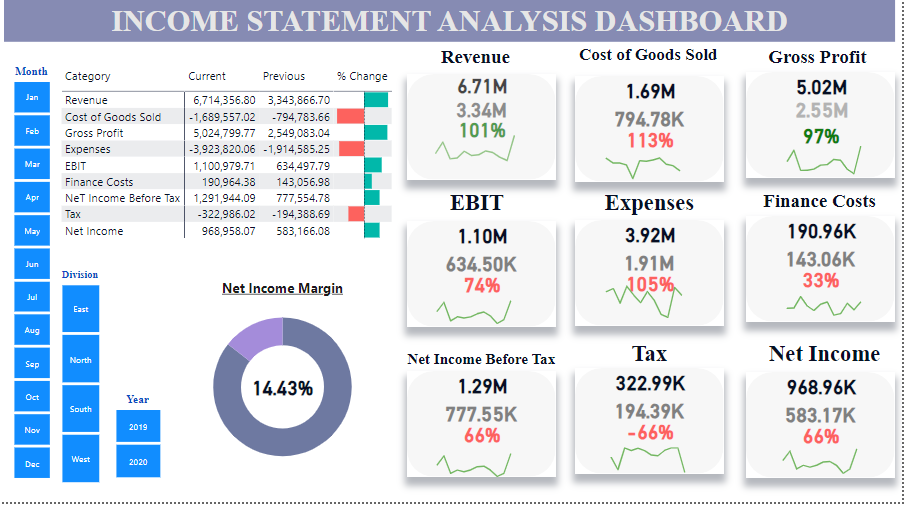

This screenshot's page, from the dashboard's own definition file:
{"tool":"powerbi","page":{"name":"Page 1","canvas":[1280,720],"ordinal":0},"visuals":[{"type":"shape","box":[1058.6,114,209.7,149.3],"z":0,"group":"g2"},{"type":"shape","box":[817,119.1,209.7,149.3],"z":0,"group":"g1"},{"type":"shape","box":[1058.6,317,209.7,149.3],"z":0,"group":"g5"},{"type":"shape","box":[817,322.1,209.7,149.3],"z":0,"group":"g7"},{"type":"shape","box":[580.4,323.7,209.7,149.3],"z":0,"group":"g4"},{"type":"shape","box":[817,531.8,209.7,149.3],"z":0,"group":"g8"},{"type":"shape","box":[580.4,535.1,209.7,149.3],"z":0,"group":"g6"},{"type":"shape","box":[1058.6,536.8,209.7,149.3],"z":0,"group":"g9"},{"type":"card","fields":{"Values":["KPIs.Gross Profit % Change"]},"box":[1082.1,176.1,164.4,53.7],"z":1000,"group":"g2"},{"type":"card","fields":{"Values":["KPIs.Cost of Goods Sold % Change"]},"box":[840.5,181.2,164.4,53.7],"z":1000,"group":"g1"},{"type":"card","fields":{"Values":["KPIs.Finance Costs % Change"]},"box":[1082.1,379.1,164.4,53.7],"z":1000,"group":"g5"},{"type":"card","fields":{"Values":["KPIs.Expenses % Change"]},"box":[840.5,384.2,164.4,53.7],"z":1000,"group":"g7"},{"type":"card","fields":{"Values":["KPIs.EBIT % Change"]},"box":[603.9,385.8,164.4,53.7],"z":1000,"group":"g4"},{"type":"donutChart","title":"Net Income Margin","fields":{"Y":["My Measures.Inv Net Margin","My Measures.Net Income Margin"]},"box":[237.2,405.2,334.6,279.5],"z":1000},{"type":"card","fields":{"Values":["KPIs.Tax % Change"]},"box":[840.5,593.9,164.4,53.7],"z":1000,"group":"g8"},{"type":"card","fields":{"Values":["KPIs.Net Income Before Tax % Change"]},"box":[603.9,597.2,164.4,53.7],"z":1000,"group":"g6"},{"type":"card","fields":{"Values":["KPIs.Net Income % Change"]},"box":[1082.1,598.9,164.4,53.7],"z":1000,"group":"g9"},{"type":"card","fields":{"Values":["KPIs.Gross Profit Previous"]},"box":[1073,129.3,186.2,73.8],"z":2000,"group":"g2"},{"type":"card","fields":{"Values":["KPIs.Cost of Goods Sold Previous"]},"box":[828.7,141,186.2,73.8],"z":2000,"group":"g1"},{"type":"card","fields":{"Values":["KPIs.Finance Costs Previous"]},"box":[1070.3,338.9,186.2,73.8],"z":2000,"group":"g5"},{"type":"card","fields":{"Values":["KPIs.Expenses Previous"]},"box":[828.7,344,186.2,73.8],"z":2000,"group":"g7"},{"type":"card","fields":{"Values":["KPIs.EBIT Previous"]},"box":[592.1,345.6,186.2,73.8],"z":2000,"group":"g4"},{"type":"card","fields":{"Values":["KPIs.Tax Previous"]},"box":[828.7,553.7,186.2,73.8],"z":2000,"group":"g8"},{"type":"card","fields":{"Values":["KPIs.Net Income Before Tax Previous"]},"box":[592.1,557,186.2,73.8],"z":2000,"group":"g6"},{"type":"card","fields":{"Values":["KPIs.Net Income Previous"]},"box":[1070.3,558.7,186.2,73.8],"z":2000,"group":"g9"},{"type":"slicer","title":"Year","fields":{"Values":["Calender.Year"]},"box":[144,566.1,111.5,125.6],"z":2000},{"type":"card","fields":{"Values":["KPIs.Gross Profit Current"]},"box":[1072,102.3,184.5,62.1],"z":3000,"group":"g2"},{"type":"card","fields":{"Values":["KPIs.Cost of Goods Sold Current"]},"box":[830.4,107.4,184.5,62.1],"z":3000,"group":"g1"},{"type":"card","fields":{"Values":["KPIs.Finance Costs Current"]},"box":[1072,305.3,184.5,62.1],"z":3000,"group":"g5"},{"type":"card","fields":{"Values":["KPIs.Expenses Current"]},"box":[830.4,310.4,184.5,62.1],"z":3000,"group":"g7"},{"type":"card","fields":{"Values":["KPIs.EBIT Current"]},"box":[593.8,312,184.5,62.1],"z":3000,"group":"g4"},{"type":"card","fields":{"Values":["My Measures.Net Income Margin"]},"box":[336,504,136.9,105.9],"z":3000},{"type":"card","fields":{"Values":["KPIs.Tax Current"]},"box":[830.4,520.1,184.5,62.1],"z":3000,"group":"g8"},{"type":"card","fields":{"Values":["KPIs.Net Income Before Tax Current"]},"box":[593.8,523.4,184.5,62.1],"z":3000,"group":"g6"},{"type":"card","fields":{"Values":["KPIs.Net Income Current"]},"box":[1072,525.1,184.5,62.1],"z":3000,"group":"g9"},{"type":"group","id":"g1","title":"Group 1","box":[817,107.4,209.7,166.1],"z":4000},{"type":"lineChart","fields":{"Category":["Calender.Month"],"Y":["My Measures.Gross Profit"]},"box":[1092.8,199.8,171.1,65.4],"z":4000,"group":"g2"},{"type":"lineChart","fields":{"Category":["Calender.Month"],"Y":["My Measures.Cost of Goods Sold"]},"box":[837.1,208.1,171.1,65.4],"z":4000,"group":"g1"},{"type":"lineChart","fields":{"Category":["Calender.Month"],"Y":["My Measures.Expenses"]},"box":[837.2,398.7,174.5,67.1],"z":4000,"group":"g7"},{"type":"lineChart","fields":{"Category":["Calender.Month"],"Y":["My Measures.Finance Costs"]},"box":[1091.8,405.6,171.1,65.4],"z":4000,"group":"g5"},{"type":"lineChart","fields":{"Category":["Calender.Month"],"Y":["My Measures.EBIT"]},"box":[598.8,411.7,171.1,65.4],"z":4000,"group":"g4"},{"type":"lineChart","fields":{"Category":["Calender.Month"],"Y":["My Measures.Net Income"]},"box":[1086.2,627,171.1,65.4],"z":4000,"group":"g9"},{"type":"lineChart","fields":{"Category":["Calender.Month"],"Y":["My Measures.Net Income before Tax"]},"box":[598.8,628.6,171.1,65.4],"z":4000,"group":"g6"},{"type":"lineChart","fields":{"Category":["Calender.Month"],"Y":["My Measures.Tax"]},"box":[843.9,630.4,171.1,65.4],"z":4000,"group":"g8"},{"type":"card","fields":{"Values":["KPIs.Revenue Current"]},"box":[595.5,99,181.2,65.4],"z":5000,"group":"g3"},{"type":"group","id":"g2","title":"Group 1","box":[1058.6,102.3,209.7,162.7],"z":5000},{"type":"group","id":"g3","title":"Group 2","box":[580.4,99,209.7,166.1],"z":6000},{"type":"textbox","box":[572.1,70.5,209.7,45.3],"z":7000},{"type":"textbox","box":[795.2,70.5,251.6,43.6],"z":8000},{"type":"textbox","box":[1046.8,70.5,226.5,45.3],"z":9000},{"type":"group","id":"g4","title":"Group 1","box":[580.4,312,209.7,164.4],"z":10000},{"type":"textbox","box":[622.4,273.4,112.4,50.3],"z":11000},{"type":"card","fields":{"Values":["KPIs.Revenue Previous"]},"box":[600.5,132.6,171.1,63.7],"z":12000,"group":"g3"},{"type":"textbox","box":[817,273.4,209.7,50.3],"z":12000},{"type":"group","id":"g5","title":"Group 1","box":[1058.6,305.3,209.7,166.1],"z":13000},{"type":"card","fields":{"Values":["KPIs.Revenue % Change"]},"box":[605.6,159.4,161,68.8],"z":14000,"group":"g3"},{"type":"textbox","box":[1046.8,273.4,233.2,48.7],"z":14000},{"type":"lineChart","fields":{"Category":["Calender.Month"],"Y":["My Measures.Revenue"]},"box":[595.5,184.6,181.2,70.5],"z":15000,"group":"g3"},{"type":"group","id":"g6","title":"Group 1","box":[580.4,523.4,209.7,171.1],"z":15000},{"type":"shape","box":[580.4,115.8,209.7,149.3],"z":16000,"group":"g3"},{"type":"textbox","box":[553.6,501.6,263.4,50.3],"z":16000},{"type":"group","id":"g7","title":"Group 1","box":[817,310.4,209.7,161],"z":17000},{"type":"group","id":"g8","title":"Group 1","box":[817,520.1,209.7,176.1],"z":18000},{"type":"textbox","box":[817,486.5,209.7,50.3],"z":19000},{"type":"group","id":"g9","title":"Group 1","box":[1058.6,525.1,209.7,167.8],"z":20000},{"type":"textbox","box":[1058.6,486.5,221.4,48.7],"z":21000},{"type":"pivotTable","fields":{"Rows":["Layout.Category"],"Values":["My Measures.Current","My Measures.Previous","My Measures.% Change"]},"box":[87.5,101.6,504,292.2],"z":22000},{"type":"slicer","title":"Division","fields":{"Values":["Division.Division"]},"box":[67.8,391.1,101.6,307.8],"z":23000},{"type":"slicer","title":"Month","fields":{"Values":["Calender.Month Name"]},"box":[0,103.1,100.2,590.1],"z":24000},{"type":"textbox","box":[11.3,11.3,1257.9,59.3],"z":24001}]}

Visuals, with their boxes in screenshot pixels (x1, y1, x2, y2), scaled from the page's 1280x720 canvas onto the 907x509 screenshot:
shape: pyautogui.locateOnScreen(750, 81, 899, 186)
shape: pyautogui.locateOnScreen(579, 84, 728, 190)
shape: pyautogui.locateOnScreen(750, 224, 899, 330)
shape: pyautogui.locateOnScreen(579, 228, 728, 333)
shape: pyautogui.locateOnScreen(411, 229, 560, 334)
shape: pyautogui.locateOnScreen(579, 376, 728, 481)
shape: pyautogui.locateOnScreen(411, 378, 560, 484)
shape: pyautogui.locateOnScreen(750, 379, 899, 485)
card - KPIs.Gross Profit % Change: pyautogui.locateOnScreen(767, 124, 883, 162)
card - KPIs.Cost of Goods Sold % Change: pyautogui.locateOnScreen(596, 128, 712, 166)
card - KPIs.Finance Costs % Change: pyautogui.locateOnScreen(767, 268, 883, 306)
card - KPIs.Expenses % Change: pyautogui.locateOnScreen(596, 272, 712, 310)
card - KPIs.EBIT % Change: pyautogui.locateOnScreen(428, 273, 544, 311)
"Net Income Margin" donutChart: pyautogui.locateOnScreen(168, 286, 405, 484)
card - KPIs.Tax % Change: pyautogui.locateOnScreen(596, 420, 712, 458)
card - KPIs.Net Income Before Tax % Change: pyautogui.locateOnScreen(428, 422, 544, 460)
card - KPIs.Net Income % Change: pyautogui.locateOnScreen(767, 423, 883, 461)
card - KPIs.Gross Profit Previous: pyautogui.locateOnScreen(760, 91, 892, 144)
card - KPIs.Cost of Goods Sold Previous: pyautogui.locateOnScreen(587, 100, 719, 152)
card - KPIs.Finance Costs Previous: pyautogui.locateOnScreen(758, 240, 890, 292)
card - KPIs.Expenses Previous: pyautogui.locateOnScreen(587, 243, 719, 295)
card - KPIs.EBIT Previous: pyautogui.locateOnScreen(420, 244, 551, 296)
card - KPIs.Tax Previous: pyautogui.locateOnScreen(587, 391, 719, 444)
card - KPIs.Net Income Before Tax Previous: pyautogui.locateOnScreen(420, 394, 551, 446)
card - KPIs.Net Income Previous: pyautogui.locateOnScreen(758, 395, 890, 447)
"Year" slicer: pyautogui.locateOnScreen(102, 400, 181, 489)
card - KPIs.Gross Profit Current: pyautogui.locateOnScreen(760, 72, 890, 116)
card - KPIs.Cost of Goods Sold Current: pyautogui.locateOnScreen(588, 76, 719, 120)
card - KPIs.Finance Costs Current: pyautogui.locateOnScreen(760, 216, 890, 260)
card - KPIs.Expenses Current: pyautogui.locateOnScreen(588, 219, 719, 263)
card - KPIs.EBIT Current: pyautogui.locateOnScreen(421, 221, 551, 264)
card - My Measures.Net Income Margin: pyautogui.locateOnScreen(238, 356, 335, 431)
card - KPIs.Tax Current: pyautogui.locateOnScreen(588, 368, 719, 412)
card - KPIs.Net Income Before Tax Current: pyautogui.locateOnScreen(421, 370, 551, 414)
card - KPIs.Net Income Current: pyautogui.locateOnScreen(760, 371, 890, 415)
"Group 1" group: pyautogui.locateOnScreen(579, 76, 728, 193)
lineChart - Calender.Month x My Measures.Gross Profit: pyautogui.locateOnScreen(774, 141, 896, 187)
lineChart - Calender.Month x My Measures.Cost of Goods Sold: pyautogui.locateOnScreen(593, 147, 714, 193)
lineChart - Calender.Month x My Measures.Expenses: pyautogui.locateOnScreen(593, 282, 717, 329)
lineChart - Calender.Month x My Measures.Finance Costs: pyautogui.locateOnScreen(774, 287, 895, 333)
lineChart - Calender.Month x My Measures.EBIT: pyautogui.locateOnScreen(424, 291, 546, 337)
lineChart - Calender.Month x My Measures.Net Income: pyautogui.locateOnScreen(770, 443, 891, 489)
lineChart - Calender.Month x My Measures.Net Income before Tax: pyautogui.locateOnScreen(424, 444, 546, 491)
lineChart - Calender.Month x My Measures.Tax: pyautogui.locateOnScreen(598, 446, 719, 492)
card - KPIs.Revenue Current: pyautogui.locateOnScreen(422, 70, 550, 116)
"Group 1" group: pyautogui.locateOnScreen(750, 72, 899, 187)
"Group 2" group: pyautogui.locateOnScreen(411, 70, 560, 187)
textbox: pyautogui.locateOnScreen(405, 50, 554, 82)
textbox: pyautogui.locateOnScreen(563, 50, 742, 81)
textbox: pyautogui.locateOnScreen(742, 50, 902, 82)
"Group 1" group: pyautogui.locateOnScreen(411, 221, 560, 337)
textbox: pyautogui.locateOnScreen(441, 193, 521, 229)
card - KPIs.Revenue Previous: pyautogui.locateOnScreen(426, 94, 547, 139)
textbox: pyautogui.locateOnScreen(579, 193, 728, 229)
"Group 1" group: pyautogui.locateOnScreen(750, 216, 899, 333)
card - KPIs.Revenue % Change: pyautogui.locateOnScreen(429, 113, 543, 161)
textbox: pyautogui.locateOnScreen(742, 193, 906, 228)
lineChart - Calender.Month x My Measures.Revenue: pyautogui.locateOnScreen(422, 131, 550, 180)
"Group 1" group: pyautogui.locateOnScreen(411, 370, 560, 491)
shape: pyautogui.locateOnScreen(411, 82, 560, 187)
textbox: pyautogui.locateOnScreen(392, 355, 579, 390)
"Group 1" group: pyautogui.locateOnScreen(579, 219, 728, 333)
"Group 1" group: pyautogui.locateOnScreen(579, 368, 728, 492)
textbox: pyautogui.locateOnScreen(579, 344, 728, 379)
"Group 1" group: pyautogui.locateOnScreen(750, 371, 899, 490)
textbox: pyautogui.locateOnScreen(750, 344, 906, 378)
pivotTable - Layout.Category x My Measures.Current: pyautogui.locateOnScreen(62, 72, 419, 278)
"Division" slicer: pyautogui.locateOnScreen(48, 276, 120, 494)
"Month" slicer: pyautogui.locateOnScreen(0, 73, 71, 490)
textbox: pyautogui.locateOnScreen(8, 8, 899, 50)
